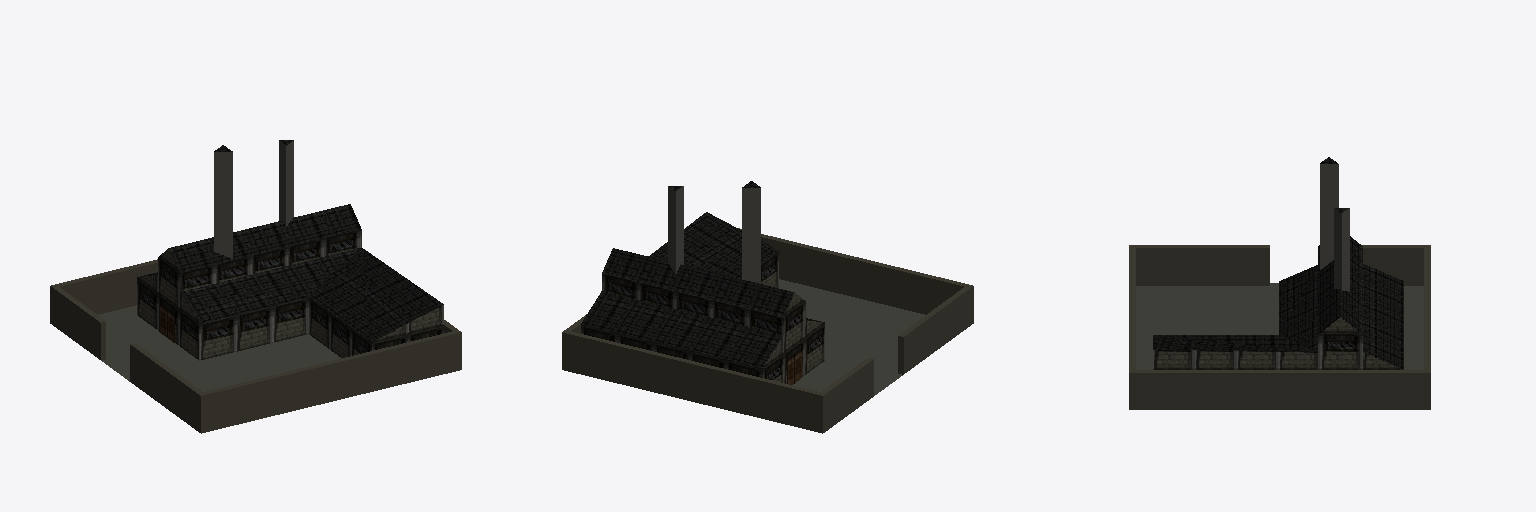
3 renders of one model, left to right at view 1: azimuth 30°, elevation 25°; view 2: azimuth 150°, elevation 25°; view 3: azimuth 270°, elevation 25°, orthographic.
Parts seen in each view (by area): view 1: factory2; view 2: factory2; view 3: factory2.
Boxes of the visible parts, x1=… form: factory2: x1=50, y1=140, x2=461, y2=433; factory2: x1=562, y1=181, x2=973, y2=433; factory2: x1=1129, y1=157, x2=1430, y2=409.
Size of the model in its own units: 48 by 31.85 by 48.
6 materials, 3 textured.